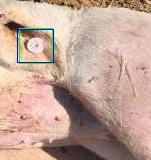text: (19, 28, 52, 63)
